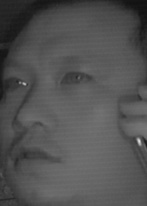eye: (58, 68, 96, 88), (2, 74, 32, 92)
mouth: (10, 141, 65, 175)
